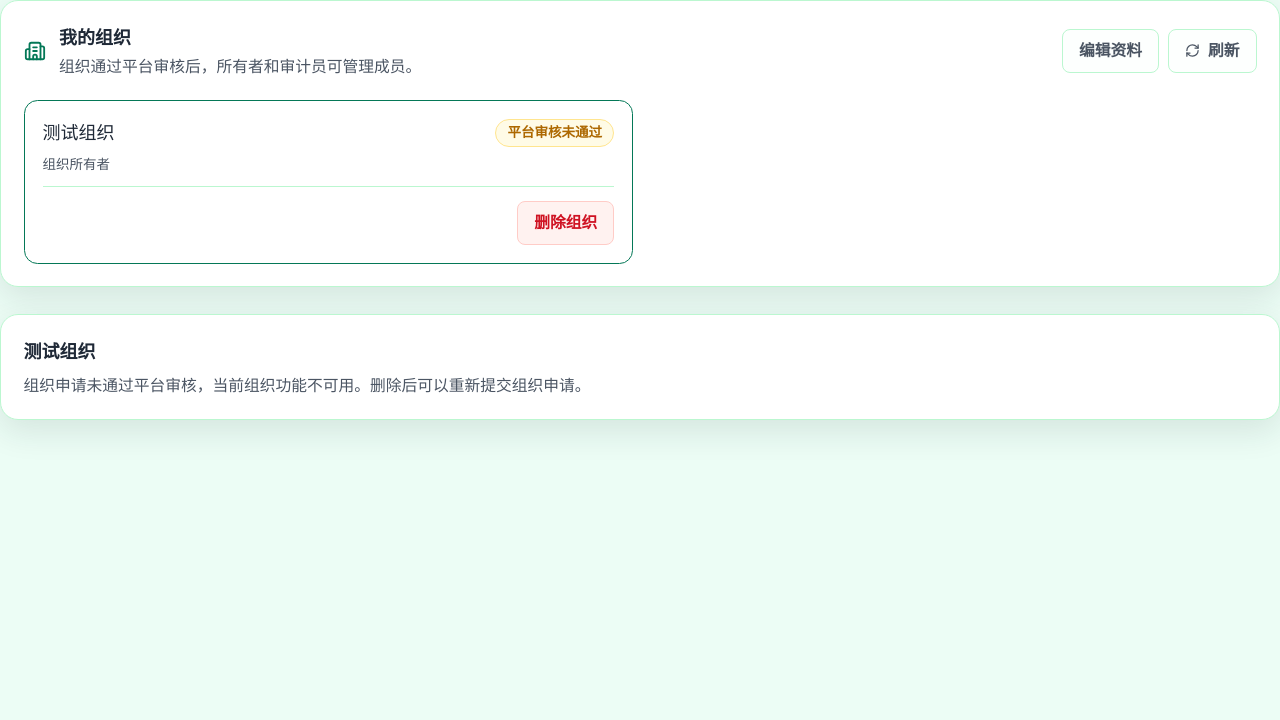
Test case: OrganizationsPanel › 审核未通过的组织由所有者看到删除入口并使用页面内确认窗口
Click the button "删除组织" at (566, 223), box 517,201 -> 614,245
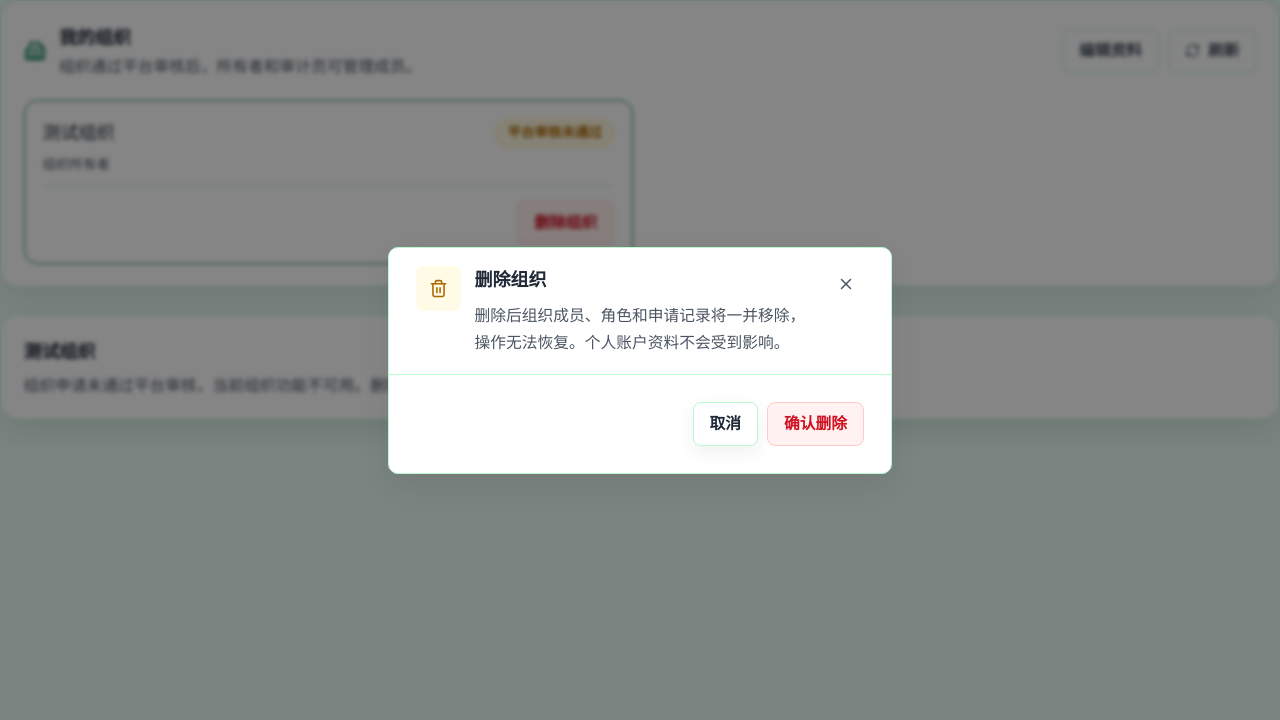
Now the dialog "删除组织" shows "组织成员、角色和申请记录将一并移除", box 474,304 -> 805,352
Click the button "确认删除" at (816, 424), box 767,402 -> 864,446
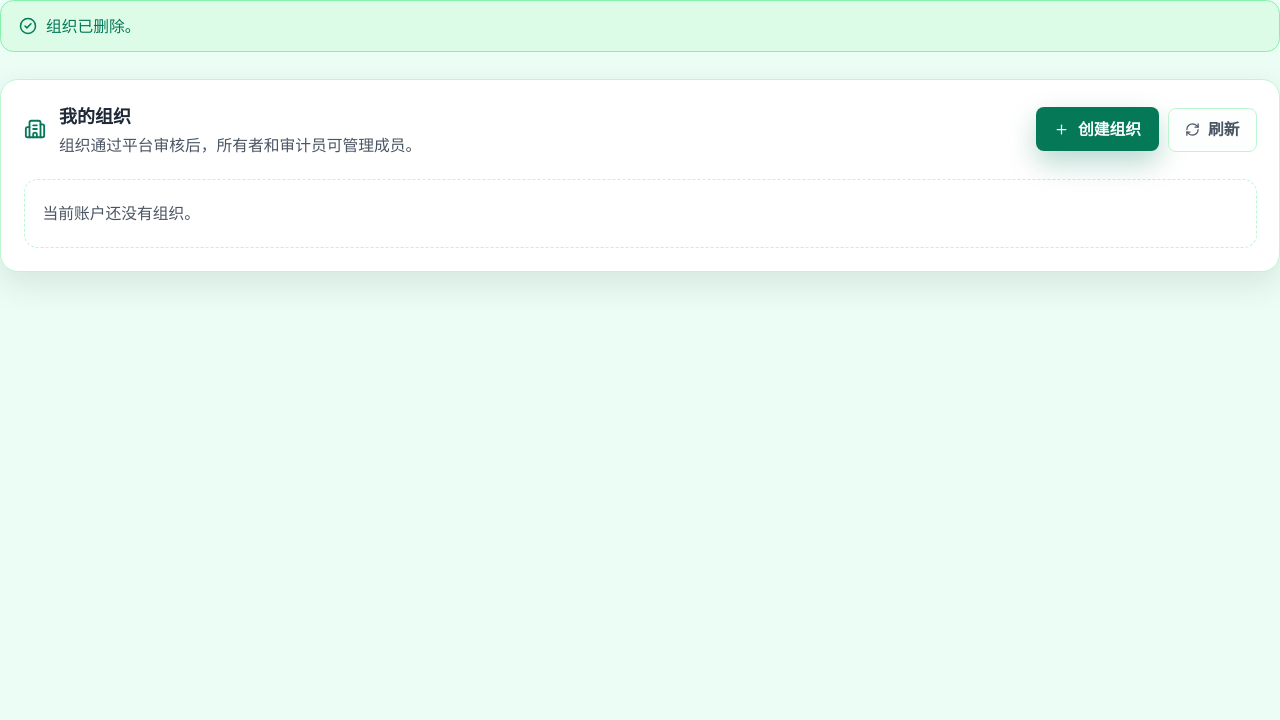
Now the text "组织已删除。" is shown, box 46,14 -> 140,37
Now the button "删除组织" is gone
